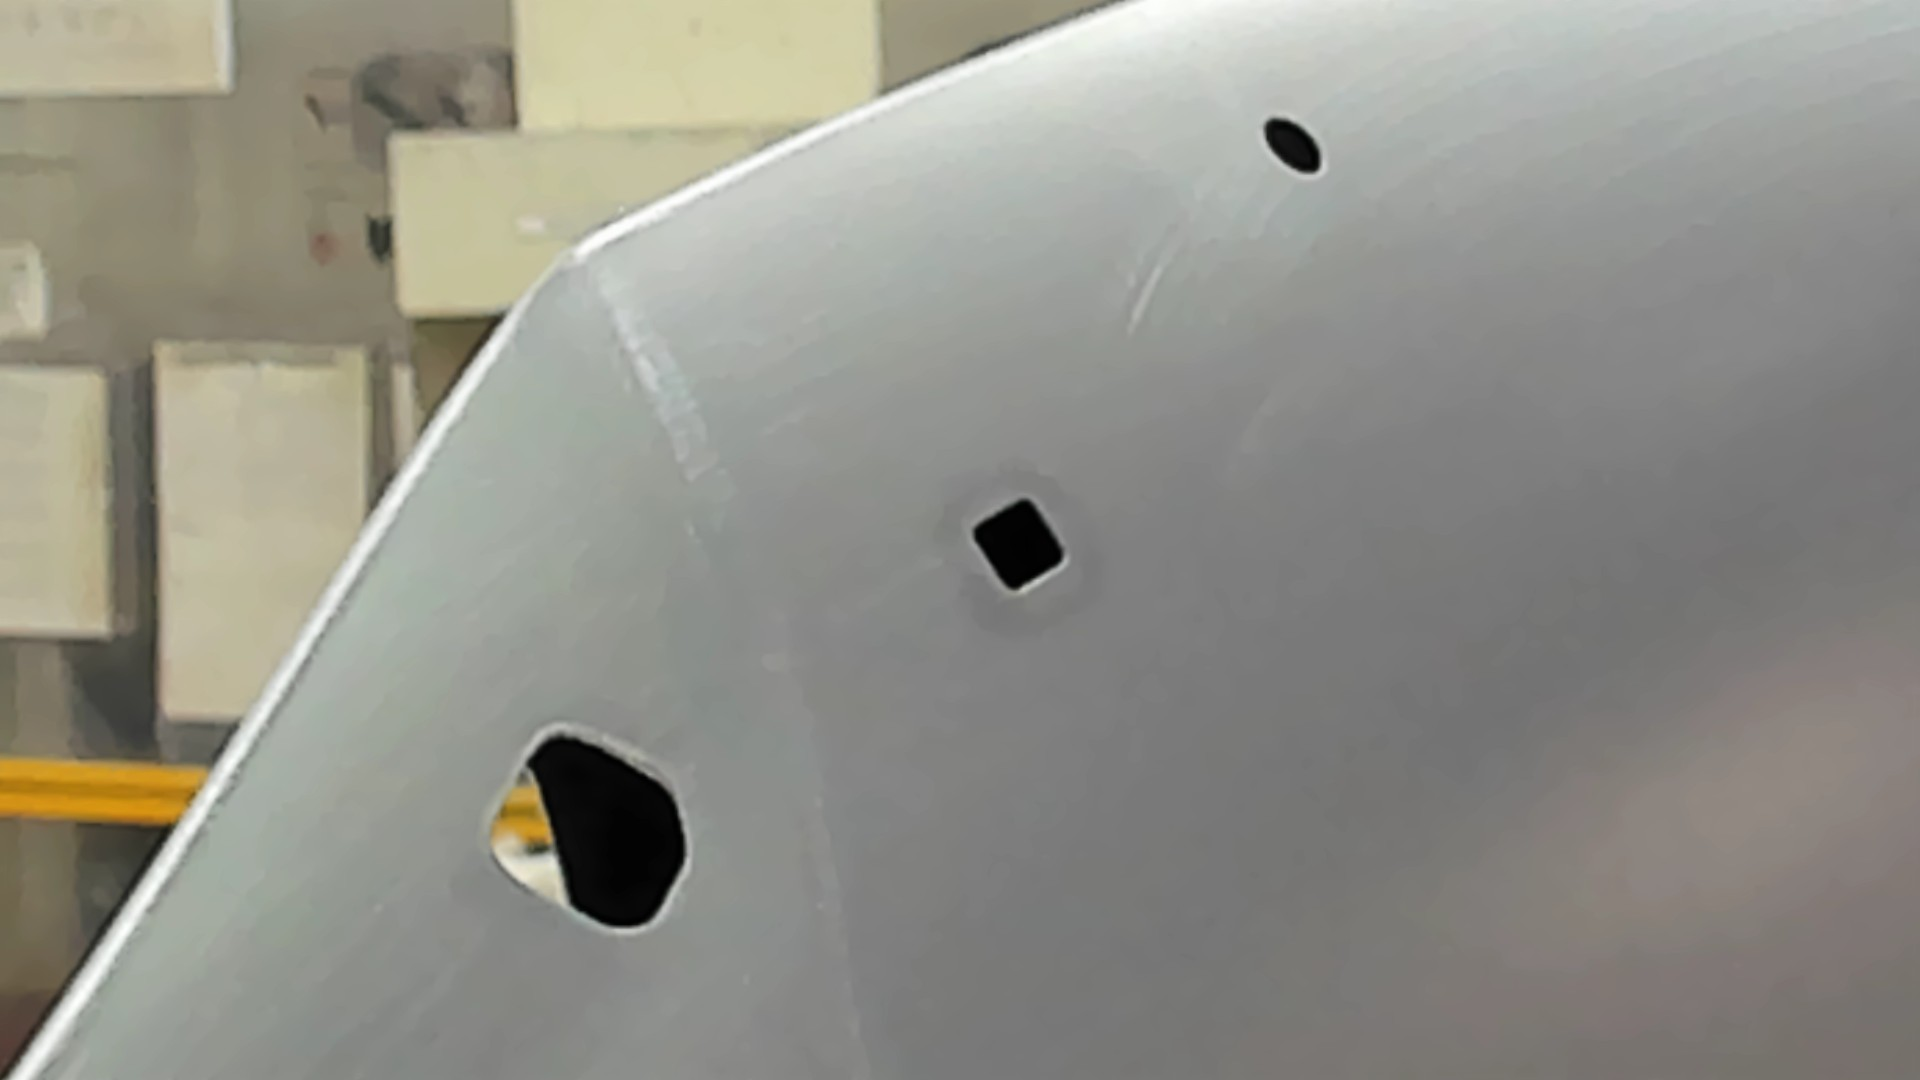chico: (1261, 113, 1325, 177)
grande: (473, 717, 698, 938)
mediano: (965, 491, 1073, 599)
